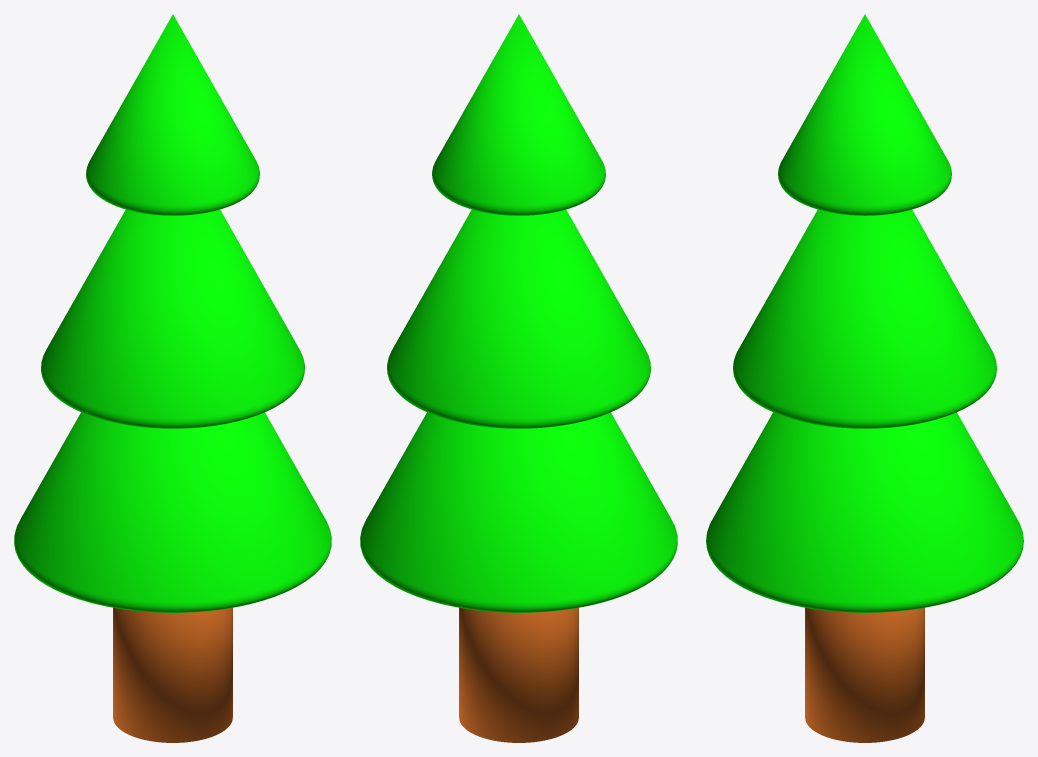
Rendered from tree.fbx.
3 renders of one model, left to right at view 1: azimuth 30°, elevation 25°; view 2: azimuth 150°, elevation 25°; view 3: azimuth 270°, elevation 25°, orthographic.
Parts seen in each view (by area): view 1: Cone; view 2: Cone; view 3: Cone.
Part boxes in pixels (left/top/right/bottom): Cone: left=14, top=14, right=331, bottom=742; Cone: left=360, top=14, right=677, bottom=742; Cone: left=706, top=14, right=1023, bottom=742.
Size of the model in its own units: 322 by 787 by 322.
